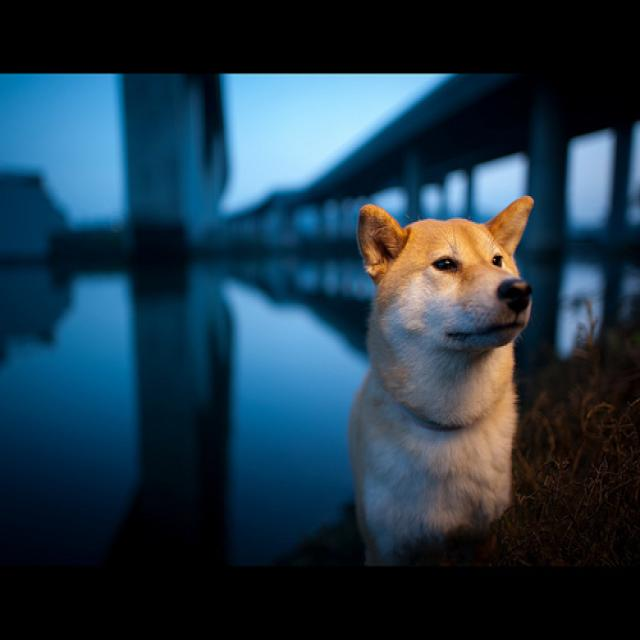dog-shiba_inu: (340, 188, 539, 577)
